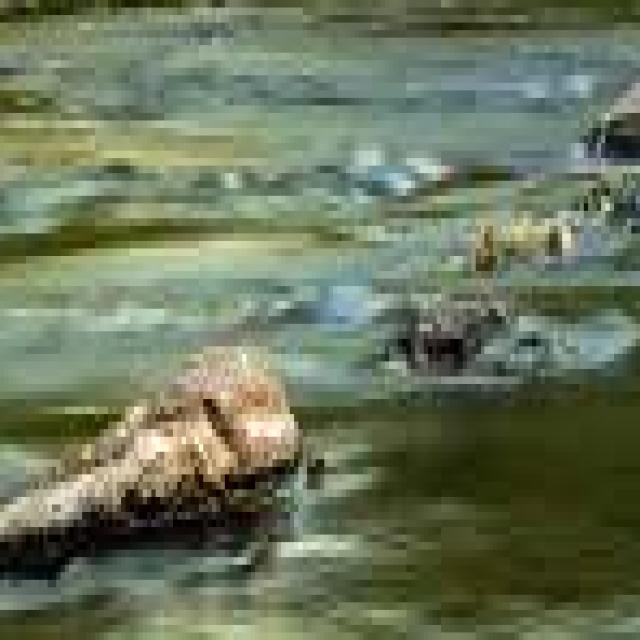-: (0, 75, 186, 354)
